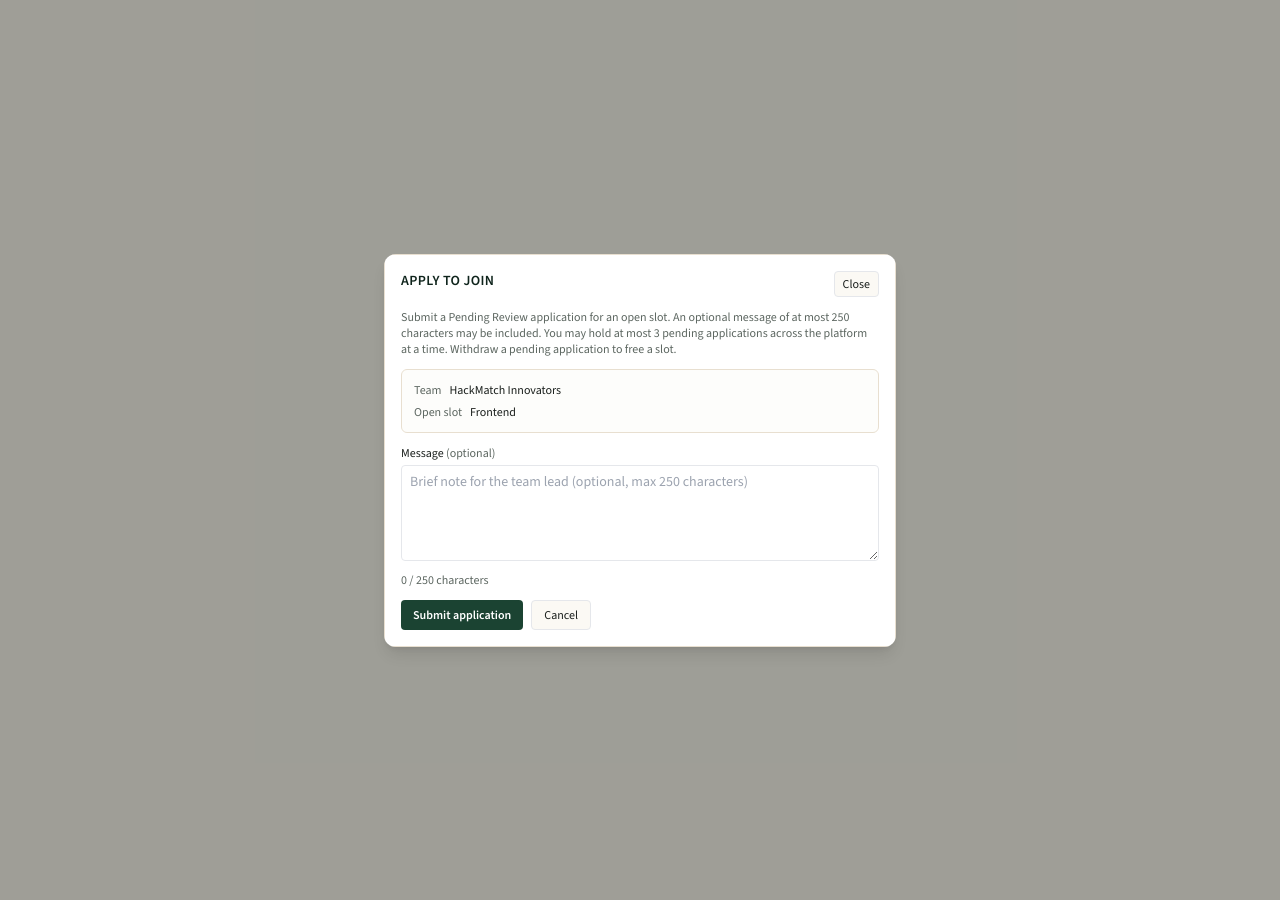
Test: ApplicationFormPanel (US-018 / #171) › shows actionable duplicate guidance and keeps the message draft (#176)
Type "Updated pitch" into the text box with test id "application-message-input" at (640, 512), box [401,464,879,560]
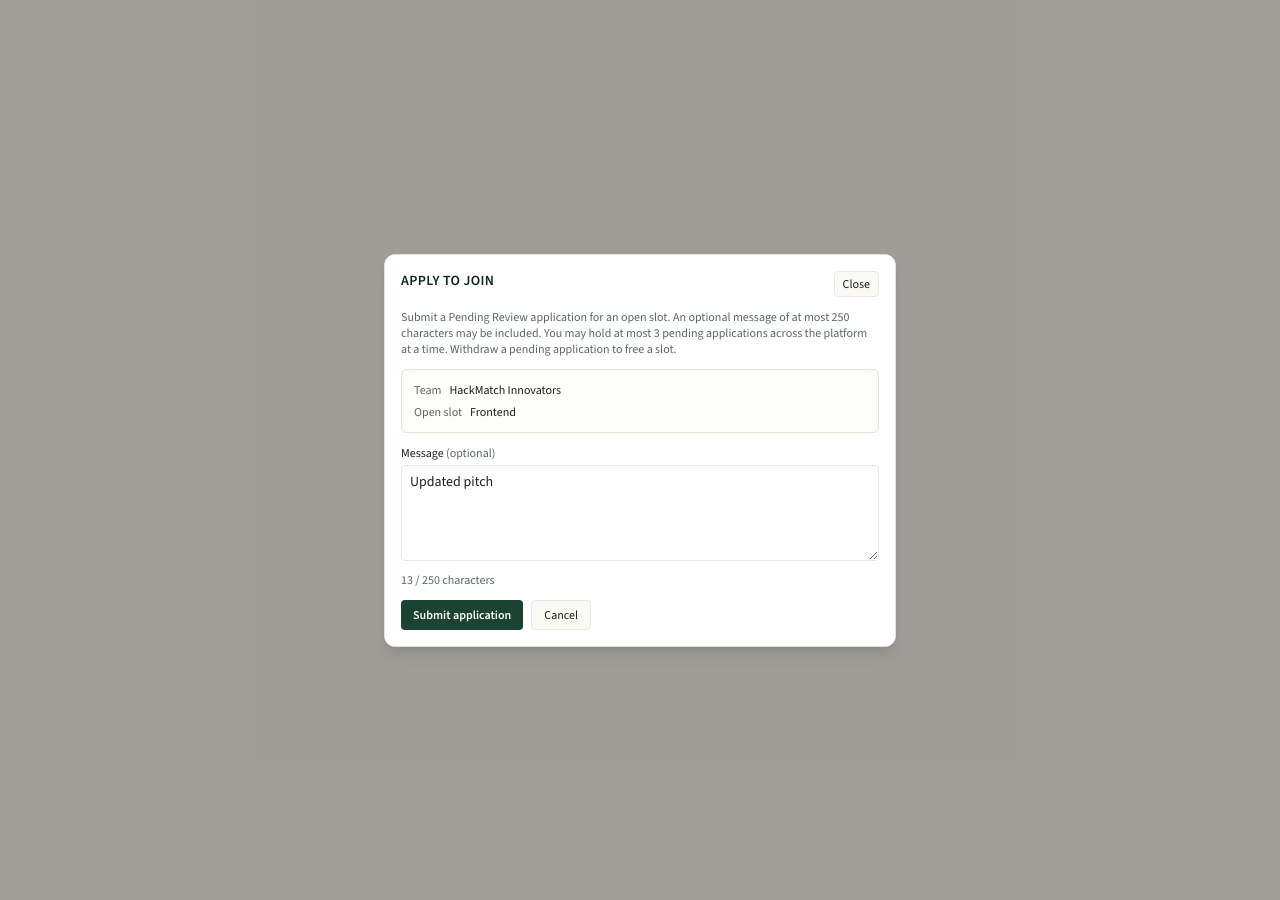
Click the button with test id "submit-application" at (462, 614), box [401,600,523,630]
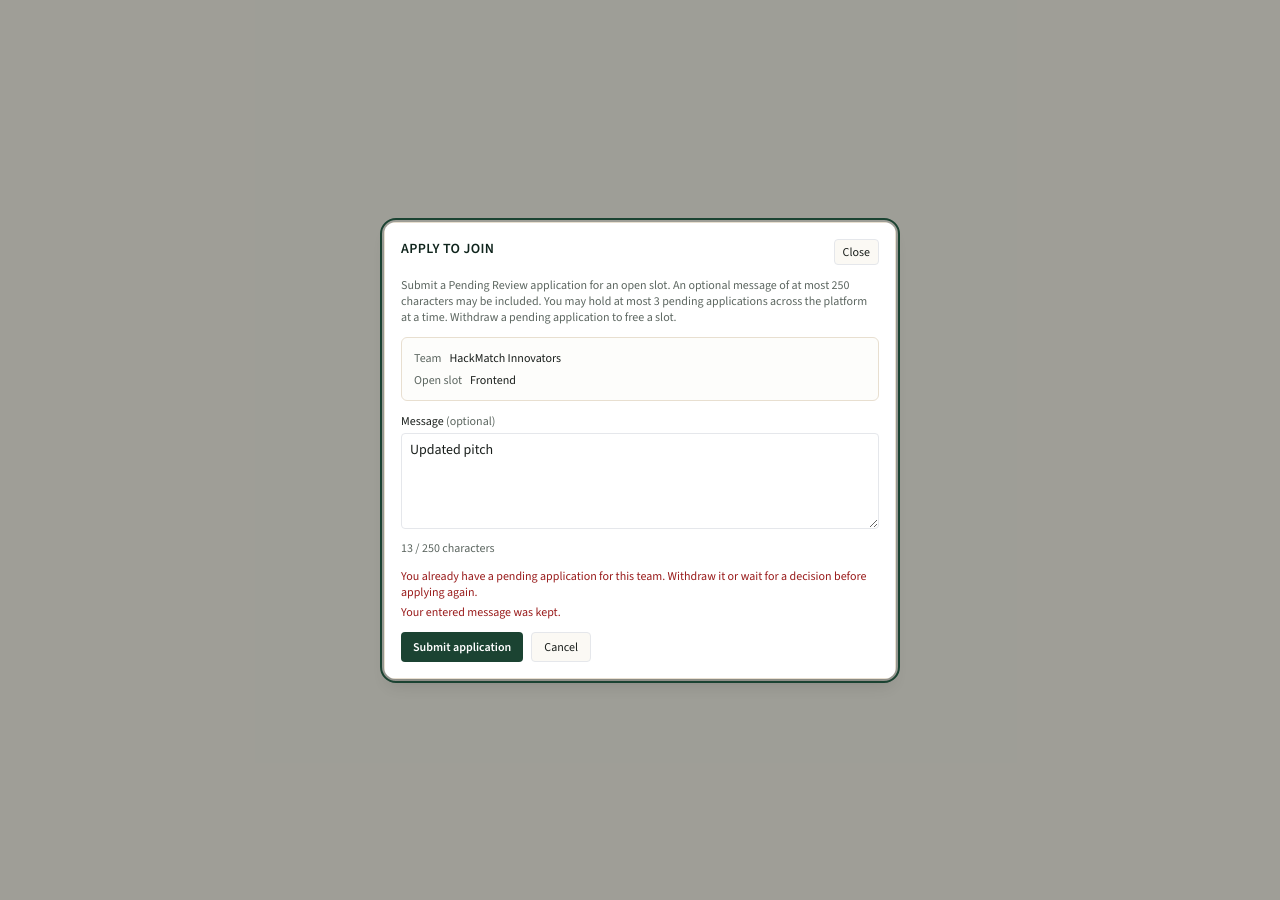
Check: the message with test id "application-form-error" shows "withdraw it or wait for a decision", box [401,568,866,600]
Check: the text "Your entered message was kept." is shown, box [401,604,561,620]
